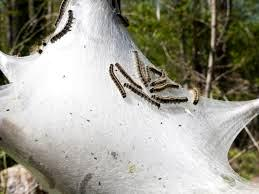Caterpillar: (48, 7, 79, 45), (124, 83, 162, 110), (115, 62, 144, 90), (103, 63, 126, 97), (133, 49, 147, 88), (151, 93, 190, 105), (148, 64, 168, 85), (149, 84, 180, 93), (191, 85, 201, 104), (144, 63, 153, 83)
